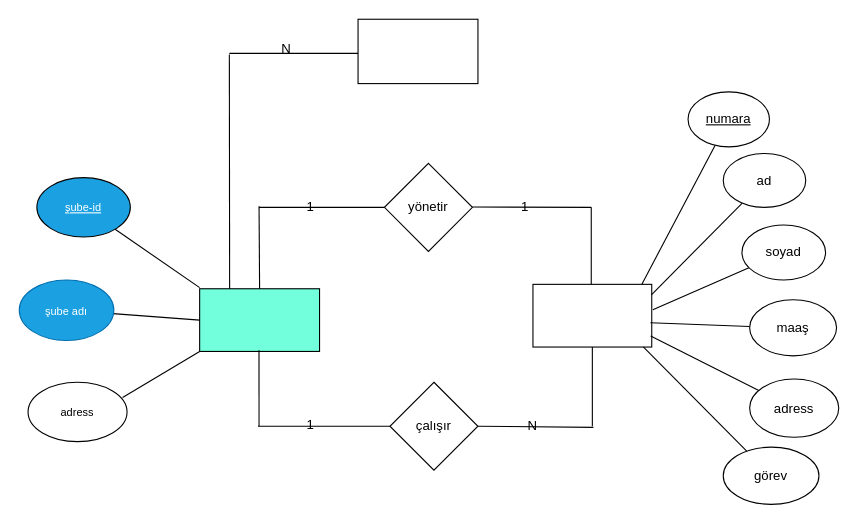
Some shapes in this 858 by 524 pixel diagram are drawn without their labels. Each missing label, with the box of its shape:
çalışan: (532, 283, 652, 347)
Şirket: (357, 18, 478, 84)
şube: (199, 288, 320, 351)
